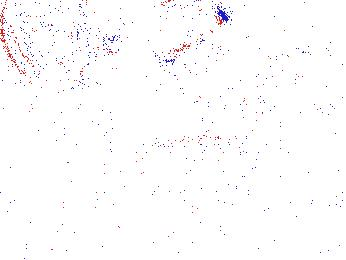moon jellyfish: (136, 136, 259, 206), (1, 1, 90, 94), (253, 53, 346, 118), (198, 85, 259, 167), (148, 1, 227, 62), (98, 1, 184, 54)
